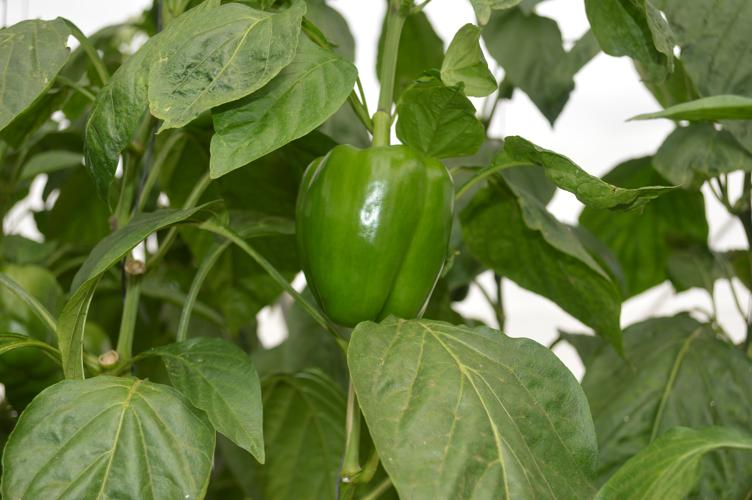BellPepper: (295, 143, 454, 319)
